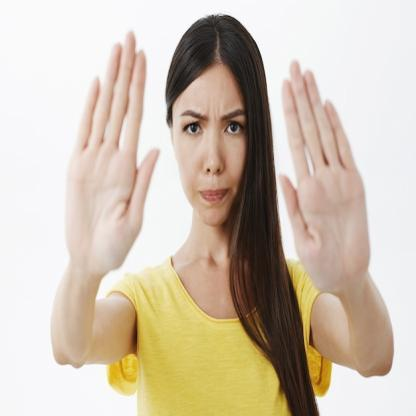stop: (60, 27, 162, 278), (276, 54, 372, 296)
